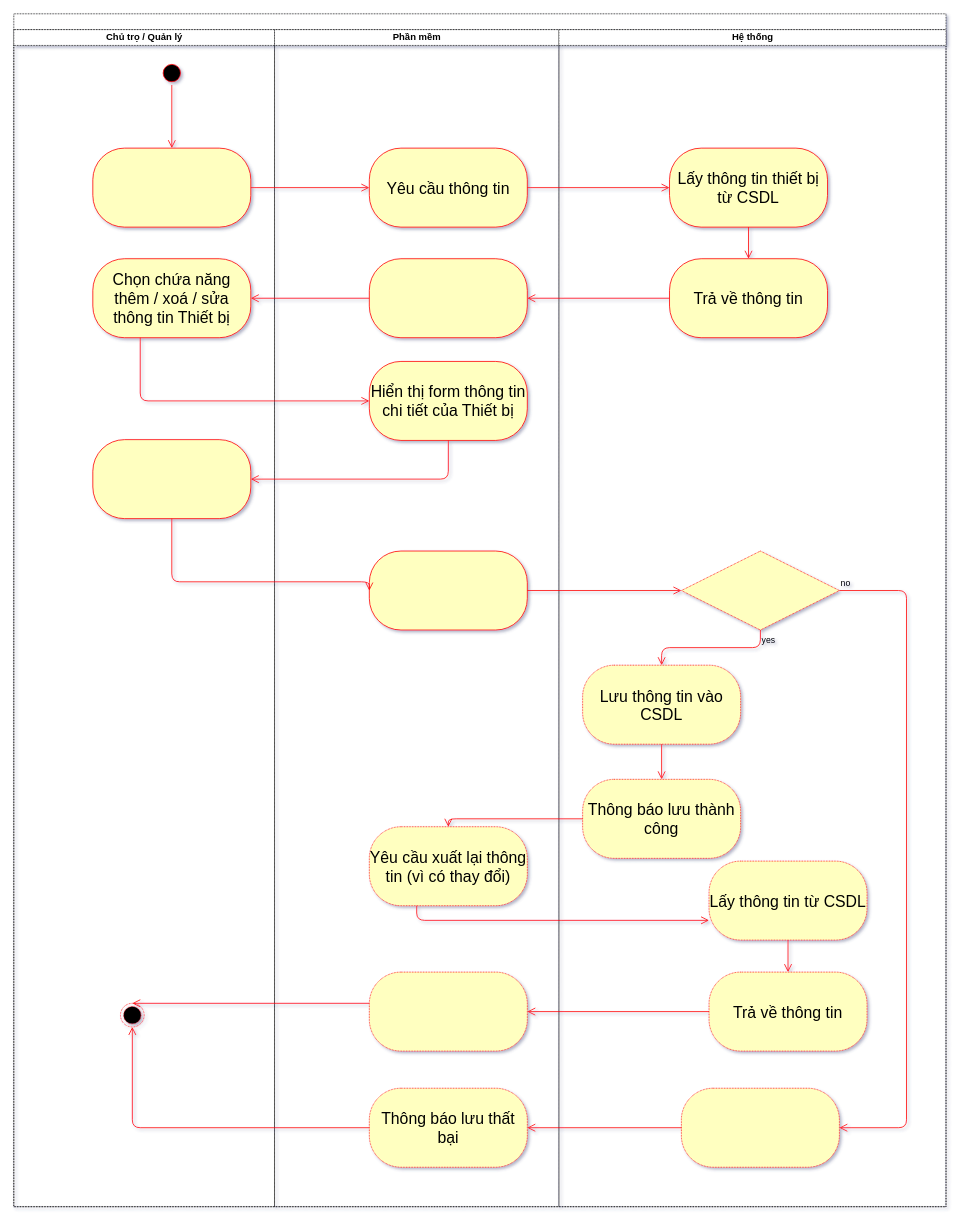
This 965x1225 diagram has some shape labels left out. The shapes that lost their labels are listed below. From the top down, each one's centre as x and y in pixels, then its label:
[171,187]: Chọn chức năng Quản lý thông tin Thiết bị
[448,298]: Tiếp nhận và xử lý, hiển thị thông tin
[171,479]: Nhập thông tin và nhấn Lưu
[448,590]: Yêu cầu lưu thông tin
[760,590]: Kiểm tra hợp lệ thông tin
[448,1011]: Xử lý và hiển thị thông tin, thông báo lưu thành công
[760,1127]: Thông báo thông tin không hợp lệ
